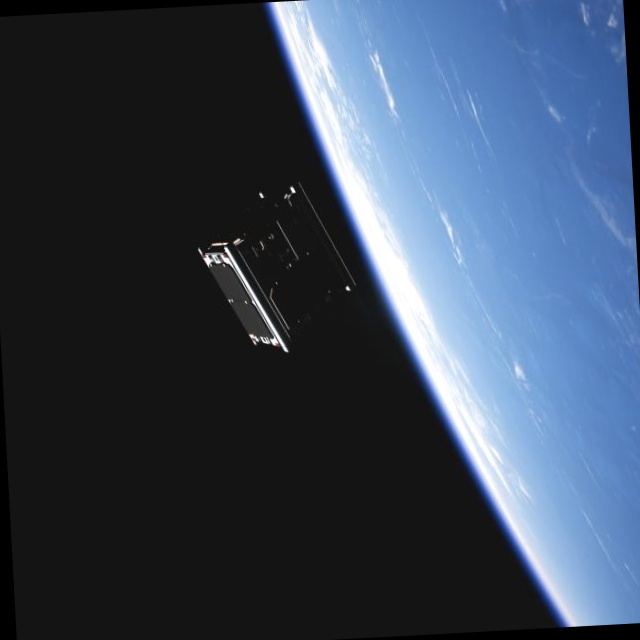medium_debris: (194, 181, 367, 359)
